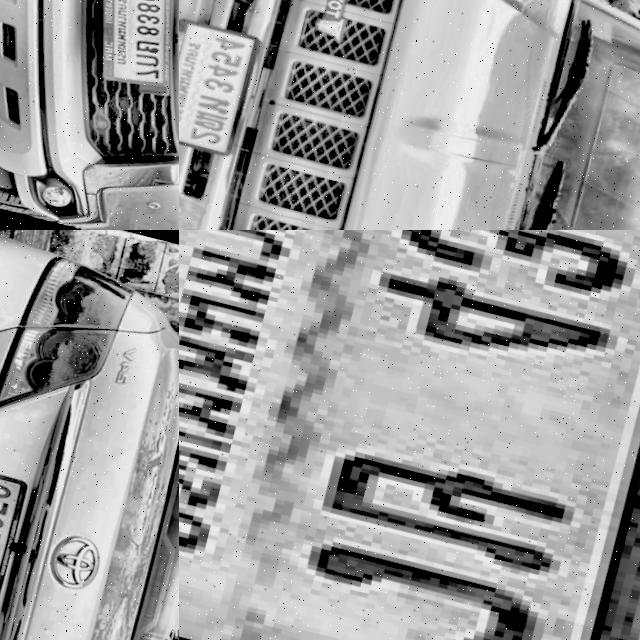license-plate: (179, 230, 640, 640), (179, 12, 269, 160), (78, 0, 179, 94), (0, 457, 30, 616)
